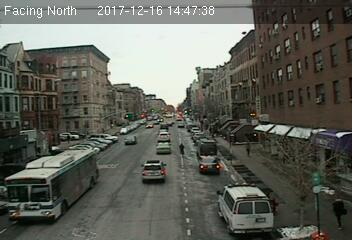bicycle: (177, 143, 186, 156)
bus: (7, 147, 99, 220)
car: (140, 159, 167, 183), (199, 156, 220, 172), (155, 141, 172, 155), (123, 136, 137, 144)
police: (218, 181, 276, 234)
